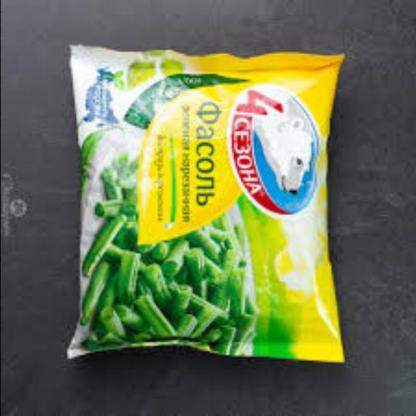fasol: (84, 192, 262, 343)
